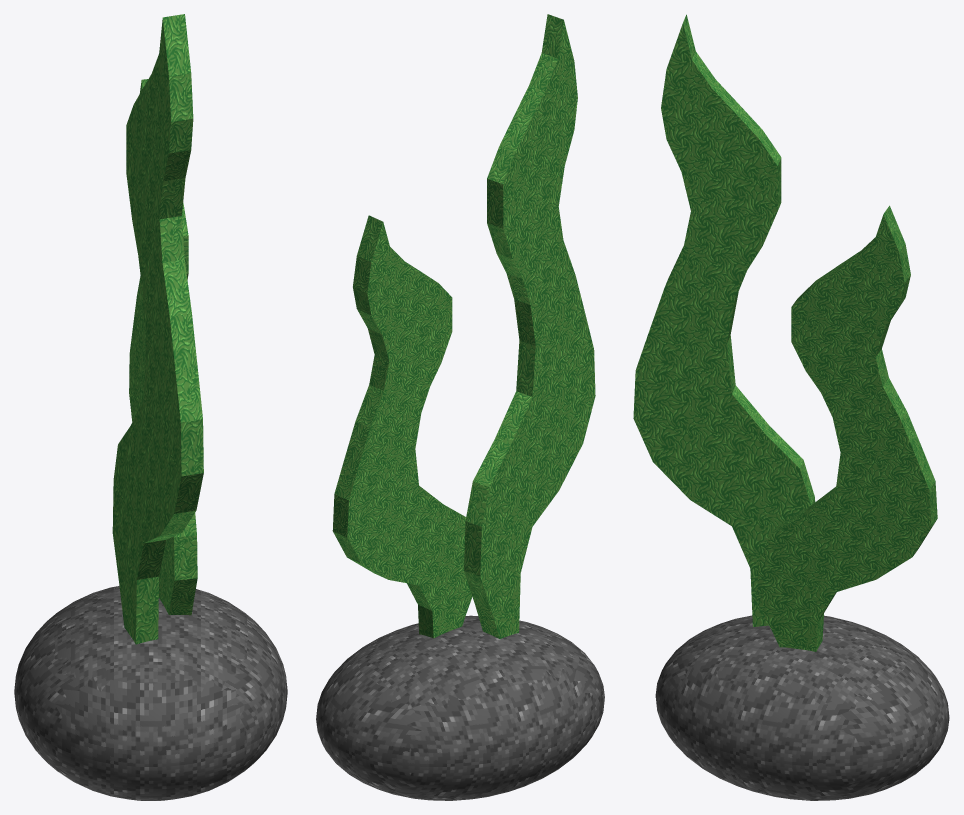
The model's file is KelpV1.obj.
The picture shows the model from 3 angles, left to right: view 1: azimuth 30°, elevation 25°; view 2: azimuth 150°, elevation 25°; view 3: azimuth 270°, elevation 25°; orthographic projection. The views are drawn at different scales.
Parts seen in each view (by area): view 1: KelpBase, Kelp (1), Kelp; view 2: Kelp (1), KelpBase, Kelp; view 3: Kelp (1), KelpBase, Kelp.
Boxes of the visible parts, <box> form: KelpBase: <box>14,586,287,800</box>; Kelp (1): <box>112,14,203,644</box>; Kelp: <box>129,79,197,615</box>; Kelp (1): <box>464,14,595,638</box>; KelpBase: <box>316,615,604,800</box>; Kelp: <box>332,215,472,638</box>; Kelp (1): <box>633,14,815,626</box>; KelpBase: <box>655,615,949,800</box>; Kelp: <box>756,205,937,651</box>.
Bounding box in the file's own units: 3.67 × 11.41 × 4.38.
Materials: 2 (2 with a texture image).
